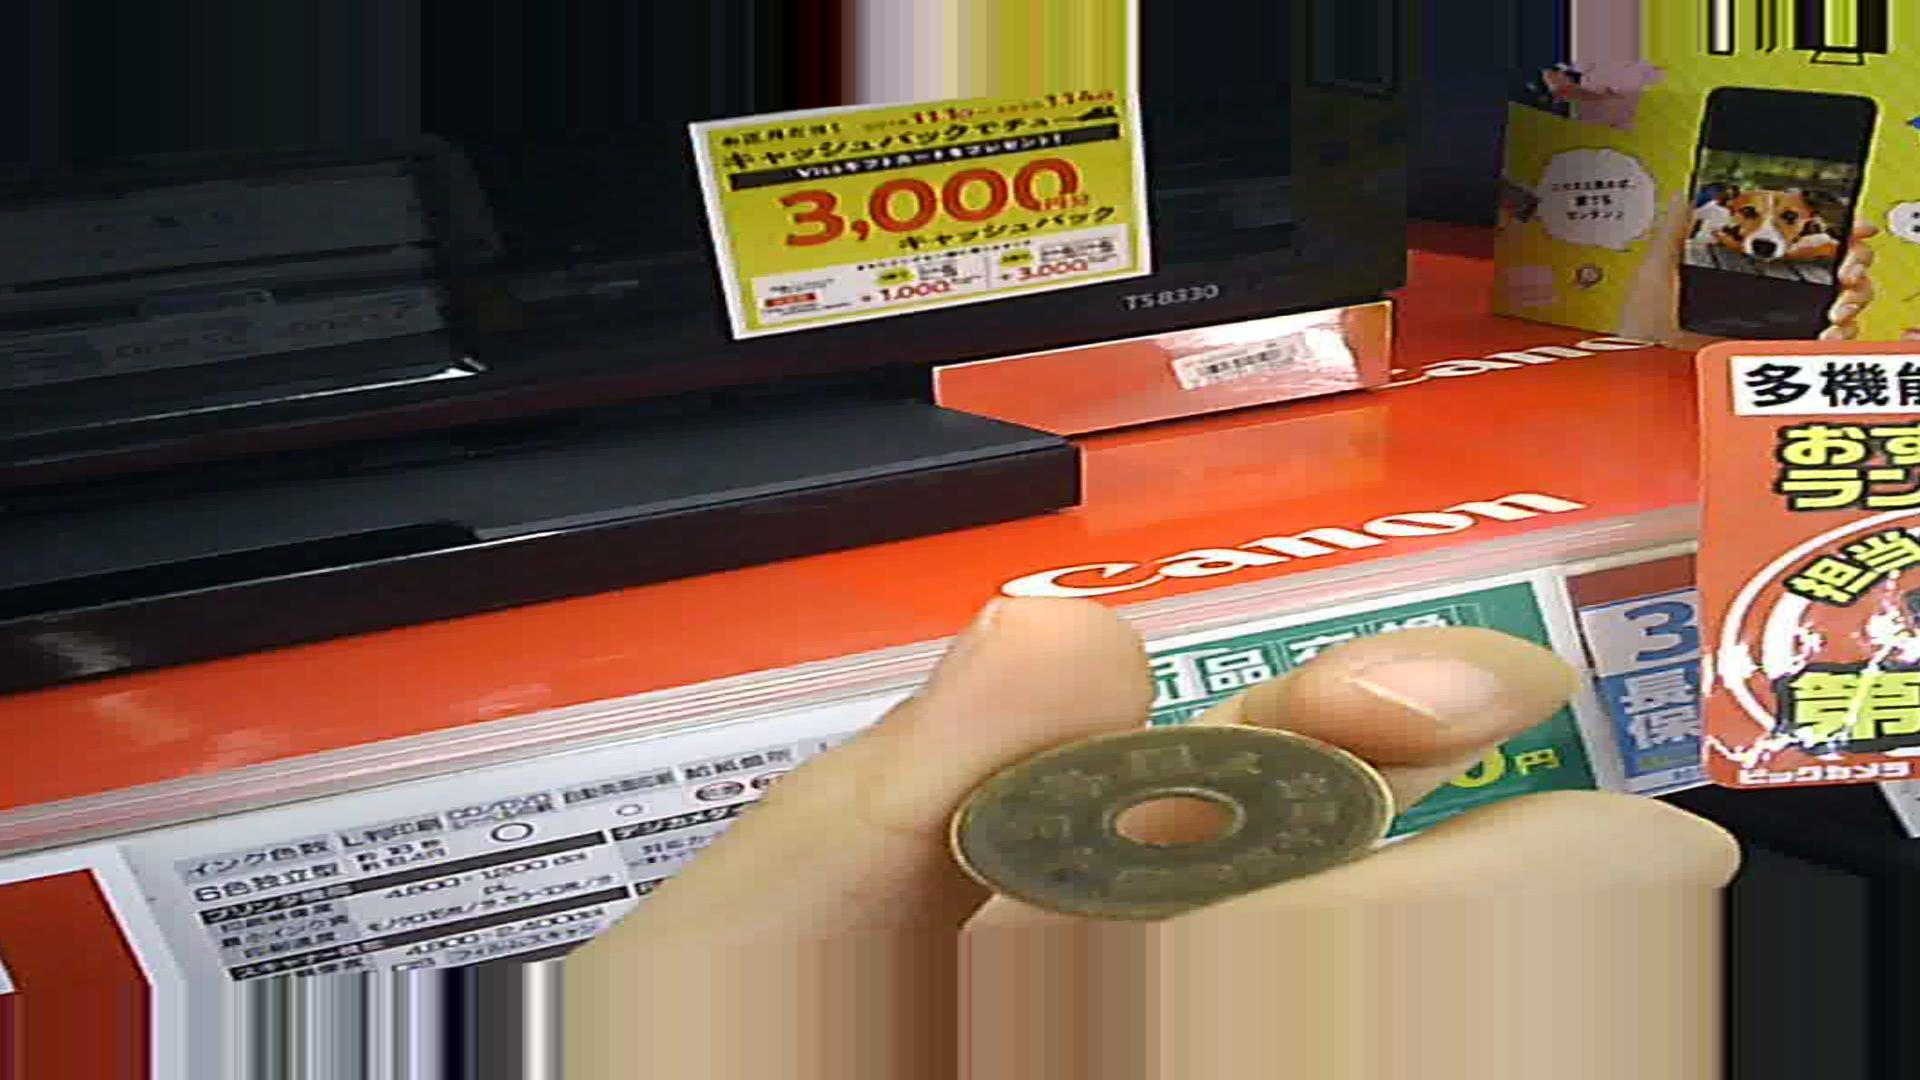5 Yen: (945, 709, 1408, 919)
